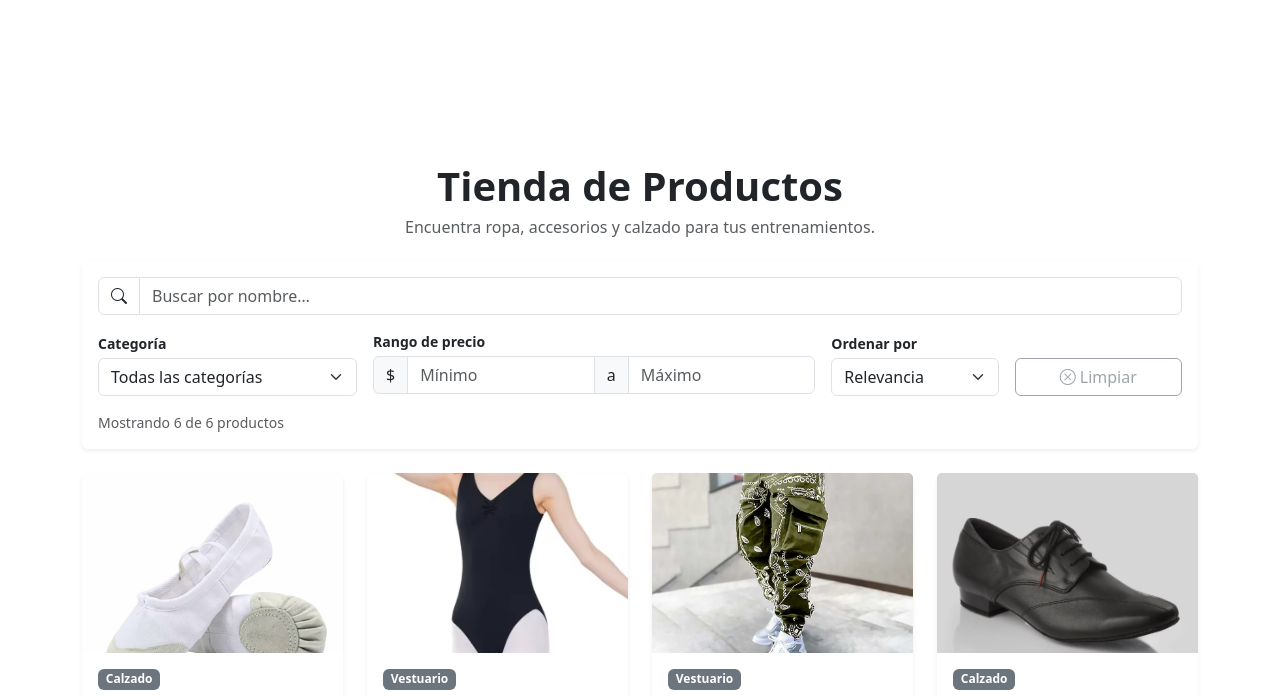
Scenario: pages/ProductosPage (filtros de búsqueda) › un rango invertido muestra el aviso y no oculta productos
Type "50000" into the number field named "Precio mínimo".
click(501, 375); type("50000")  # box [407, 356, 595, 394]
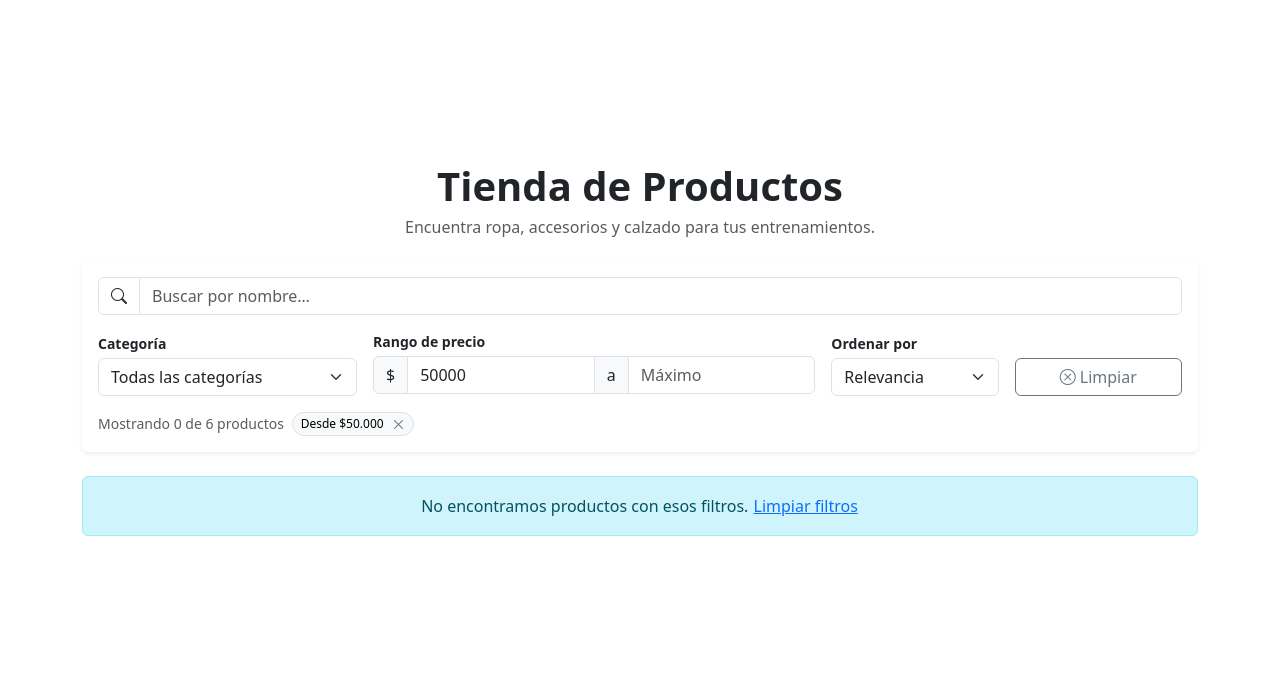
Type "10000" into the number field named "Precio máximo".
click(722, 375); type("10000")  # box [628, 356, 815, 394]
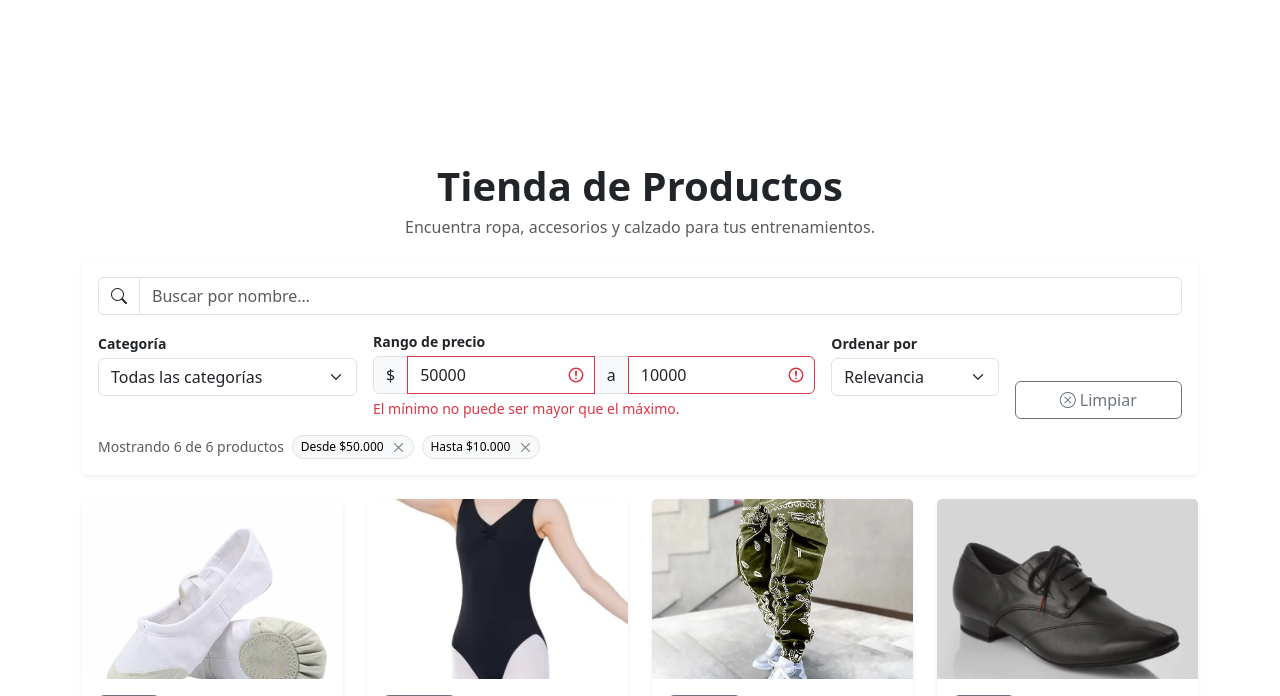
expect the text "El mínimo no puede ser mayor que el máximo." is shown: met, box [373, 399, 680, 418]
